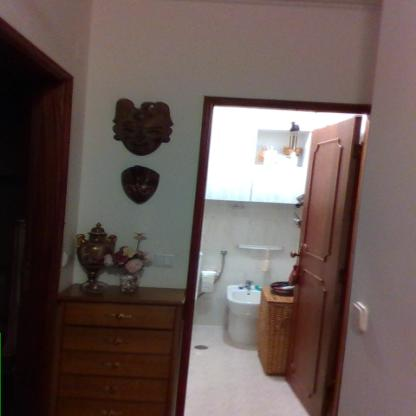open: (176, 87, 366, 415)
